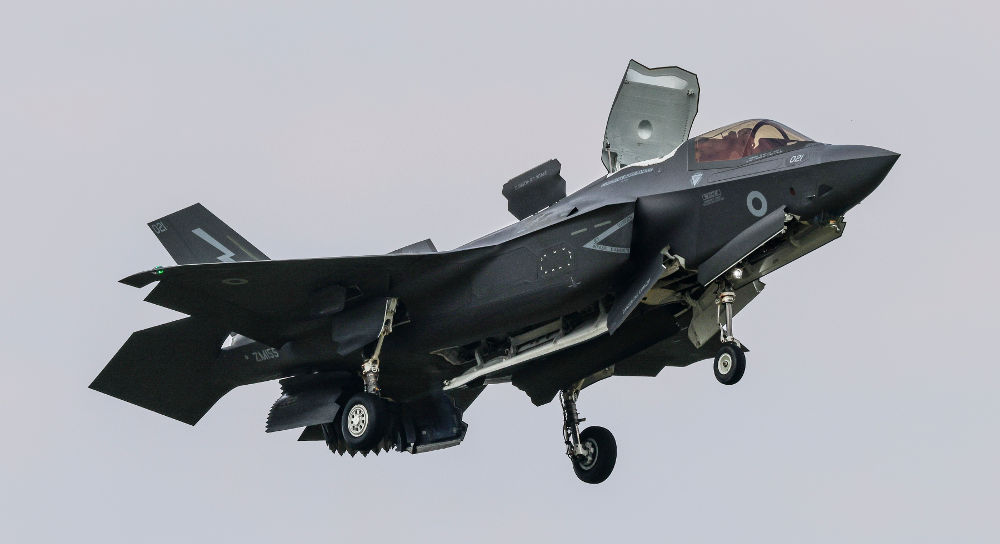F35: (85, 52, 903, 488)
